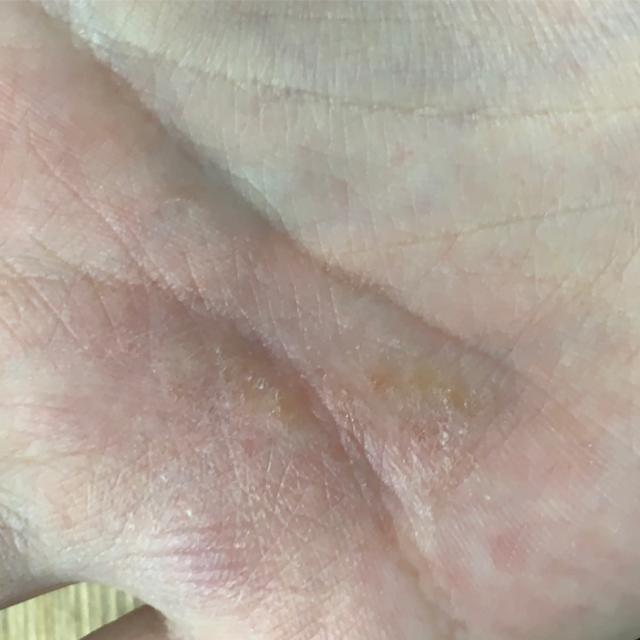Eczema: (94, 271, 489, 595)
